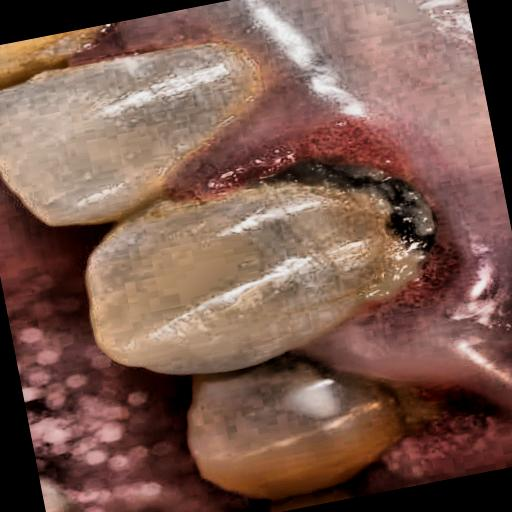Calculus: (216, 101, 510, 337)
